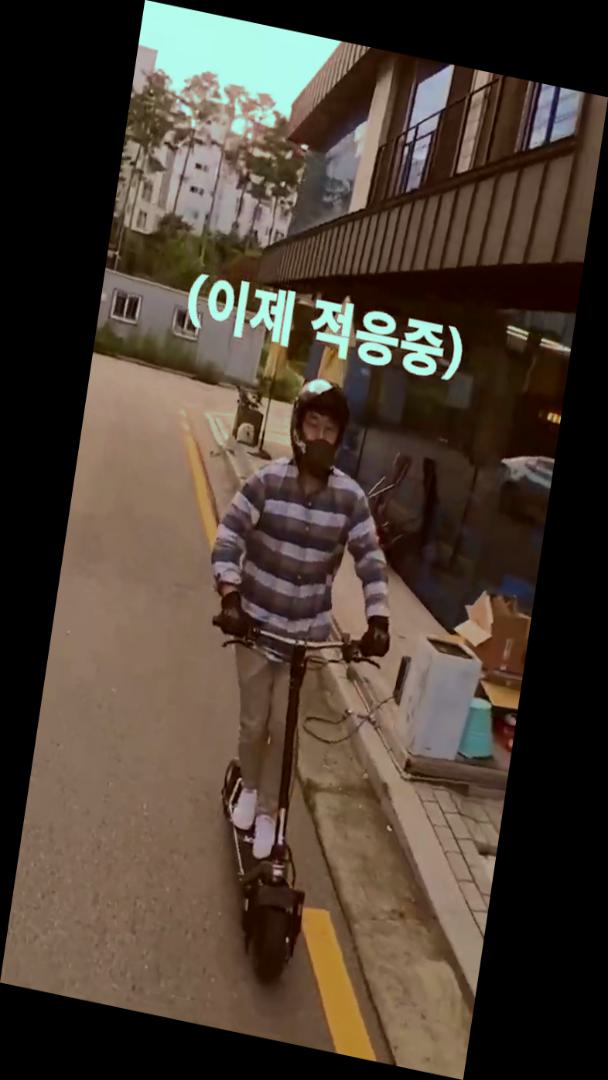helmet: (150, 360, 427, 1001)
